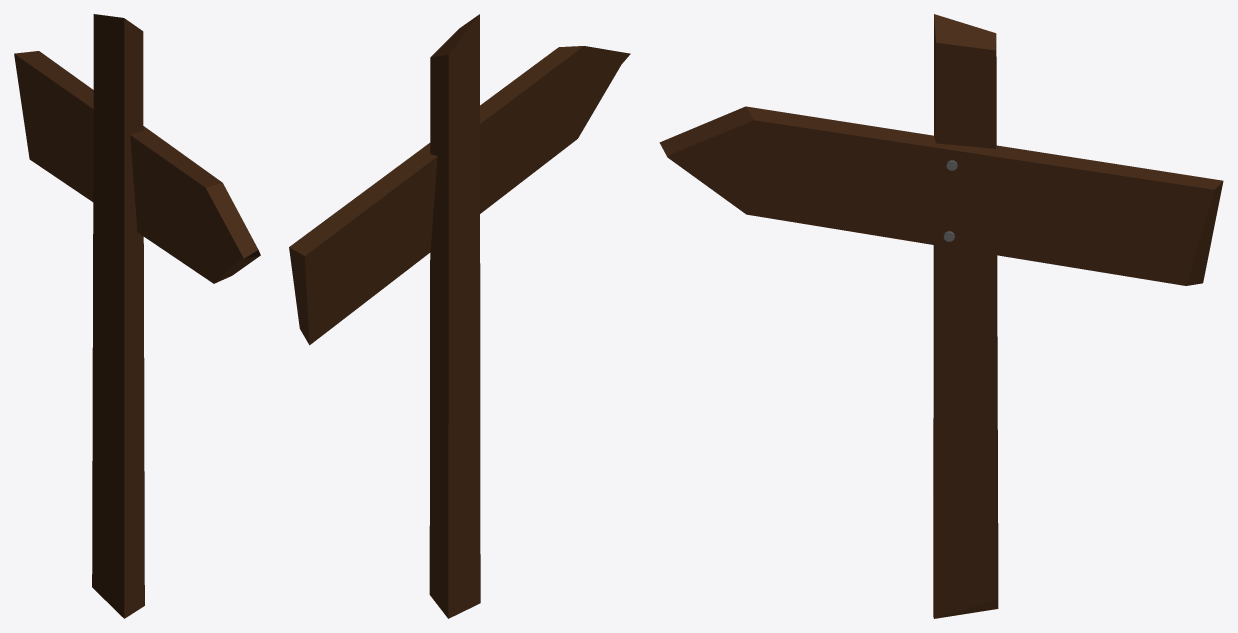
File: tablicaz1.obj
3 views of the same model, side by side, from view 1: azimuth 30°, elevation 25°; view 2: azimuth 150°, elevation 25°; view 3: azimuth 270°, elevation 25° (orthographic). The views are drawn at different scales.
Parts seen in each view (by area): view 1: Cube, Cube.003; view 2: Cube, Cube.003; view 3: Cube.003, Cube.
Boxes of the visible parts, x1,y1,x2,y2 form: Cube: [92, 14, 144, 618]; Cube.003: [14, 51, 260, 283]; Cube: [429, 14, 480, 618]; Cube.003: [289, 46, 630, 345]; Cube.003: [659, 106, 1223, 285]; Cube: [933, 14, 998, 618].
Bounding box in the file's own units: 0.1886 × 1.44 × 1.22.
